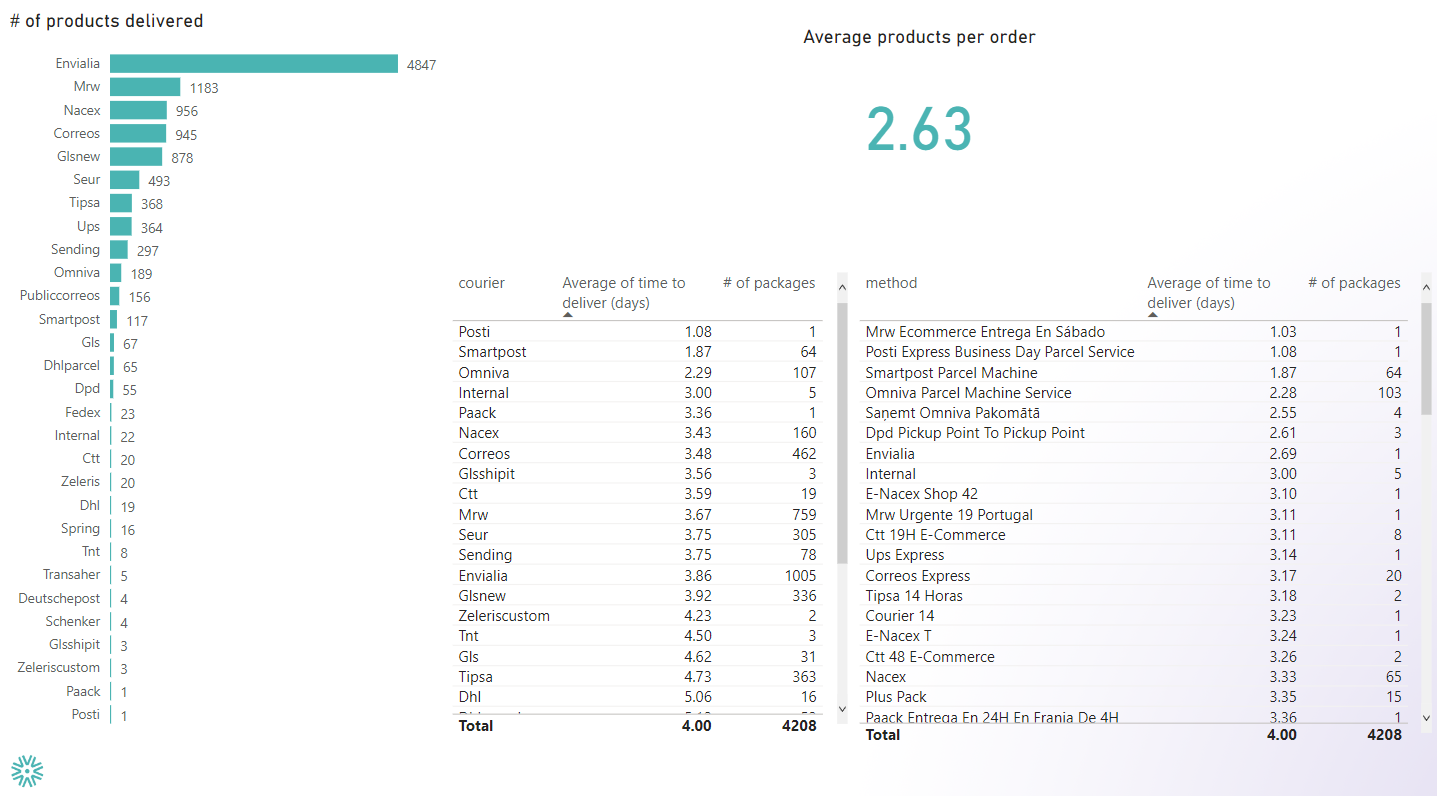

Layout of this report page (visuals, bound fields, positions):
{"tool":"powerbi","page":{"name":"Home page","canvas":[1280,720],"ordinal":0},"visuals":[{"type":"clusteredBarChart","title":"# of products delivered","fields":{"Category":["dim_courier.courier"],"Y":["Sum(packages.# of products)"]},"box":[8.9,16,391,647.3],"z":0},{"type":"tableEx","fields":{"Values":["shipments.courier","Avg(shipments.time to deliver)","Sum(shipments.# of packages)"]},"box":[400.9,244.7,360.9,418.6],"z":1000},{"type":"tableEx","fields":{"Values":["shipments.method","Avg(shipments.time to deliver)","Sum(shipments.# of packages)"]},"box":[761.9,244.7,518.1,427],"z":2000},{"type":"image","box":[8.9,672.1,40.8,39.9],"z":3000},{"type":"card","title":"Average products per order","fields":{"Values":["Avg(packages.# of products)"]},"box":[640,29.8,360.9,149.8],"z":4000}]}

Visuals, with their boxes in screenshot pixels (x1, y1, x2, y2), scaled from the page's 1280x720 canvas onto the 1437x796 screenshot:
"# of products delivered" clusteredBarChart: [x1=10, y1=18, x2=449, y2=733]
tableEx - shipments.courier x Avg(shipments.time to deliver): [x1=450, y1=271, x2=855, y2=733]
tableEx - shipments.method x Avg(shipments.time to deliver): [x1=855, y1=271, x2=1436, y2=743]
image: [x1=10, y1=743, x2=56, y2=787]
"Average products per order" card: [x1=718, y1=33, x2=1124, y2=199]
